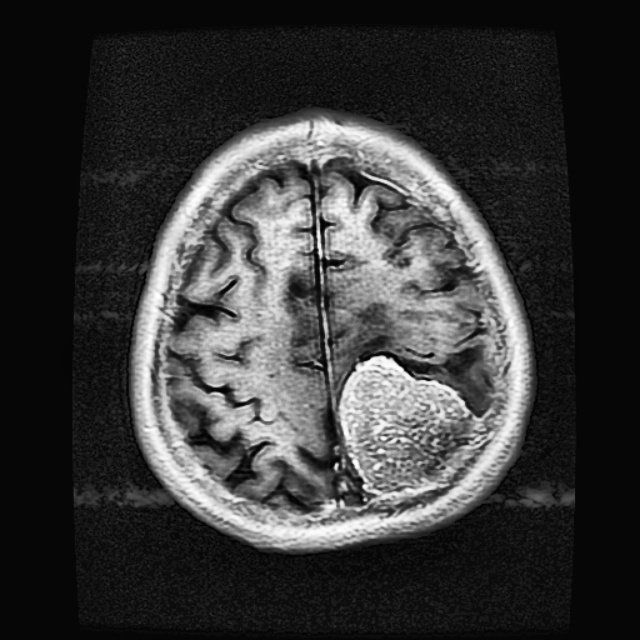Glioma: (340, 357, 490, 498)
